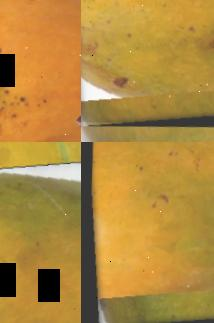PartiallyRipe: (82, 142, 214, 323), (81, 0, 214, 132), (0, 142, 81, 323)
Ripe: (0, 0, 81, 142)
